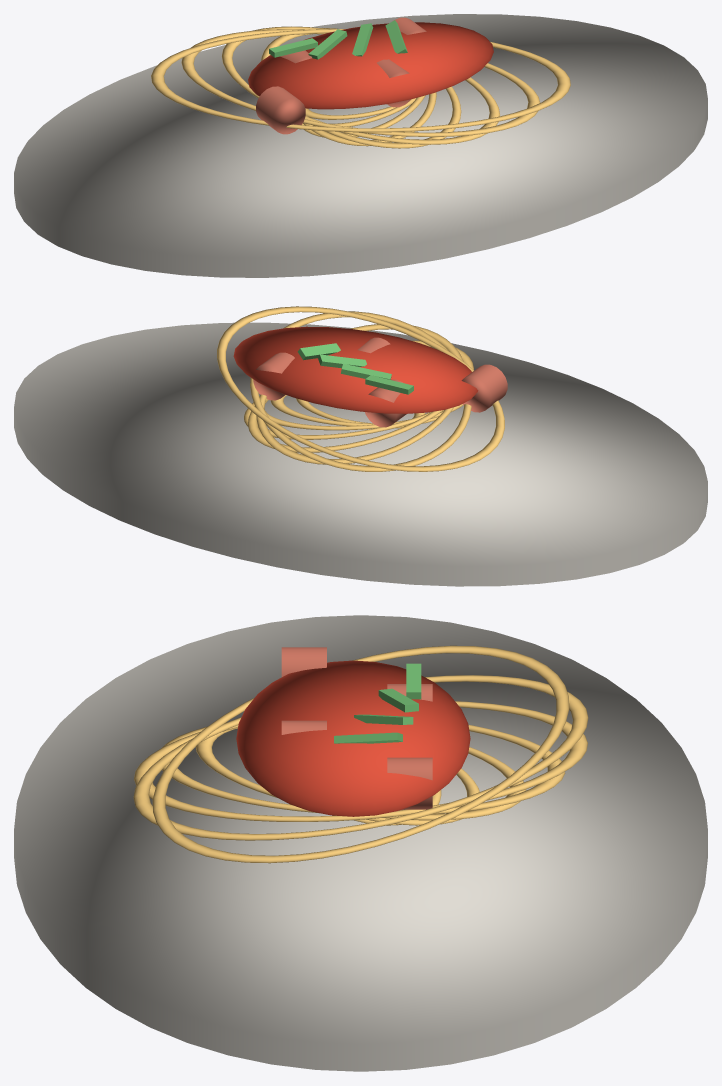
The model's file is spaghetti.glb.
3 renders of one model, top to bottom at view 1: azimuth 30°, elevation 25°; view 2: azimuth 150°, elevation 25°; view 3: azimuth 270°, elevation 25°, orthographic. The views are drawn at different scales.
Size of the model in its own units: 2.69 by 0.4581 by 1.84.
